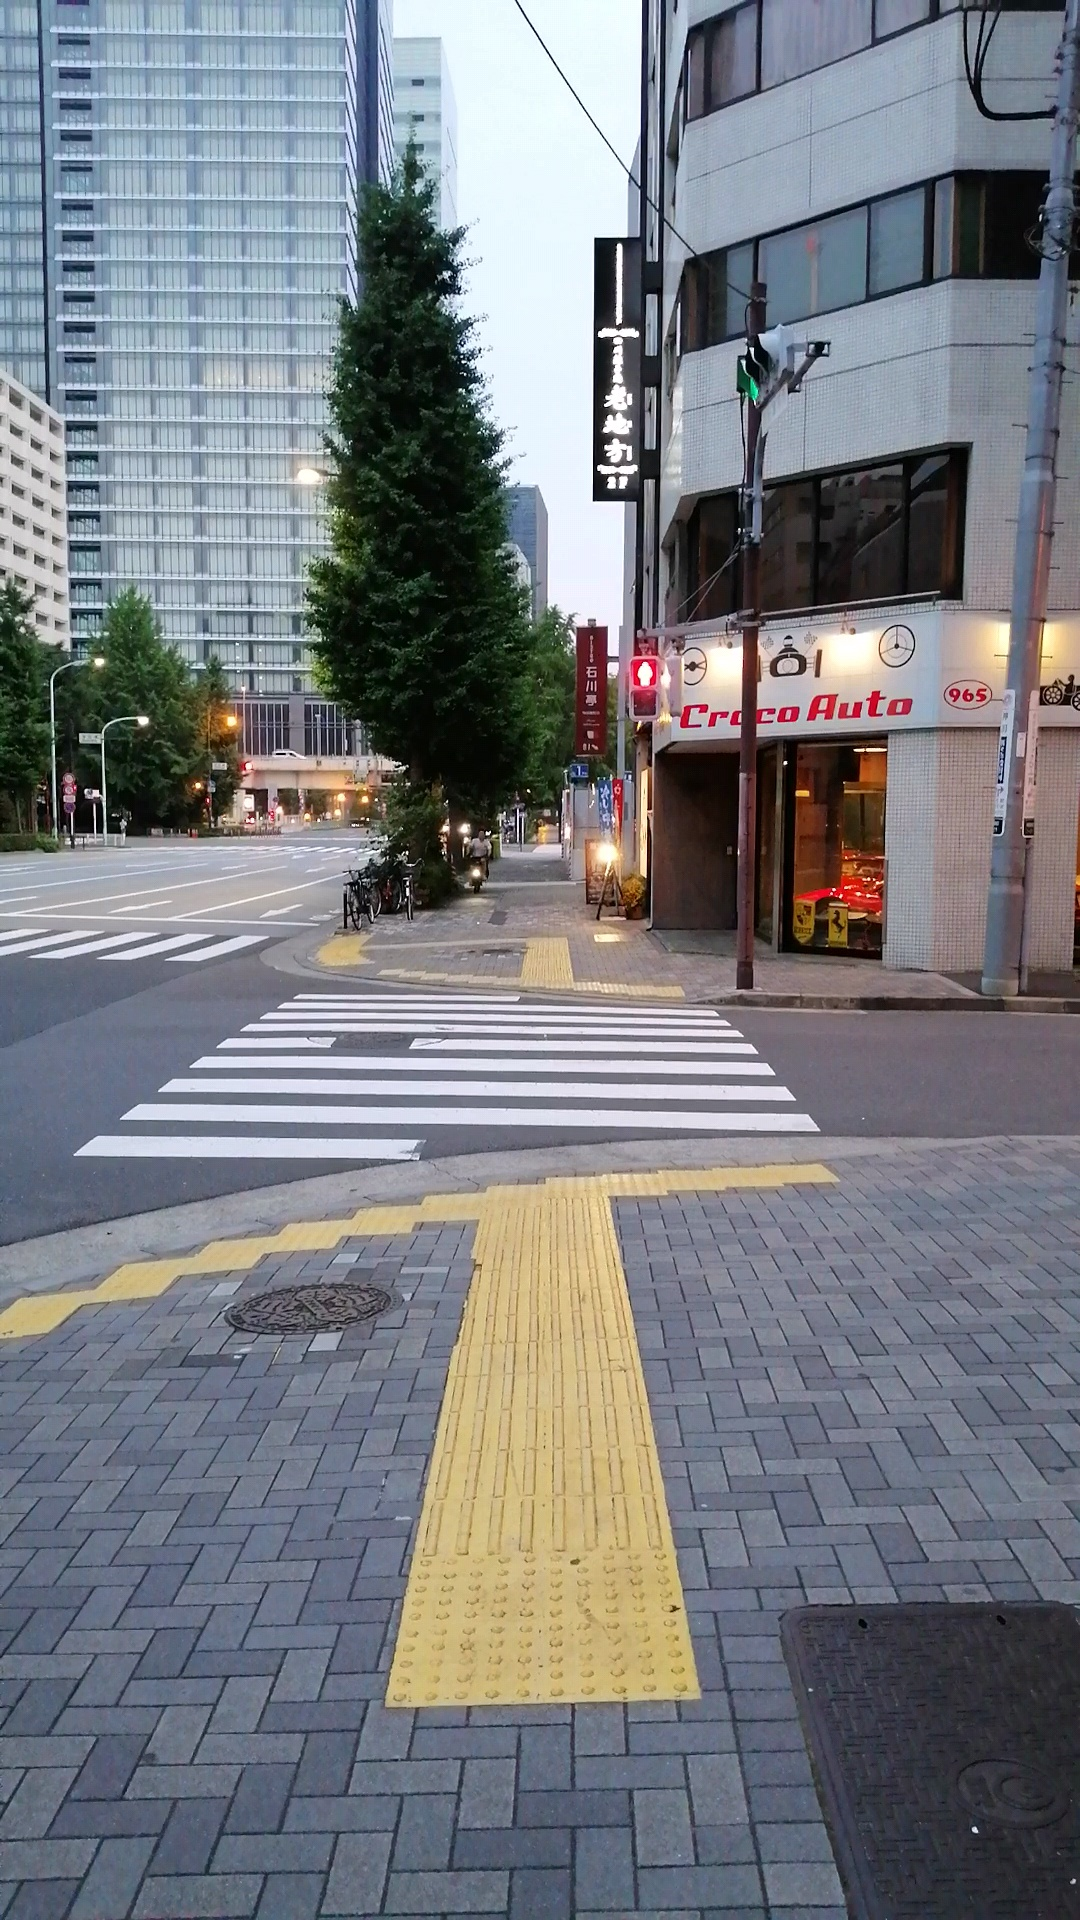red: (622, 655, 665, 727)
